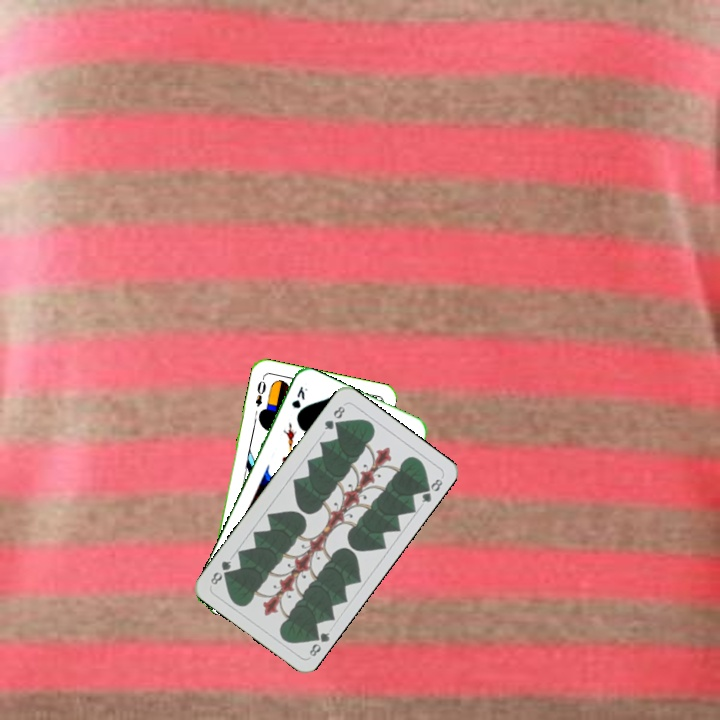EO: (251, 373, 268, 410)
G8: (305, 627, 332, 659), (320, 402, 348, 432)
GK: (287, 382, 310, 411)
